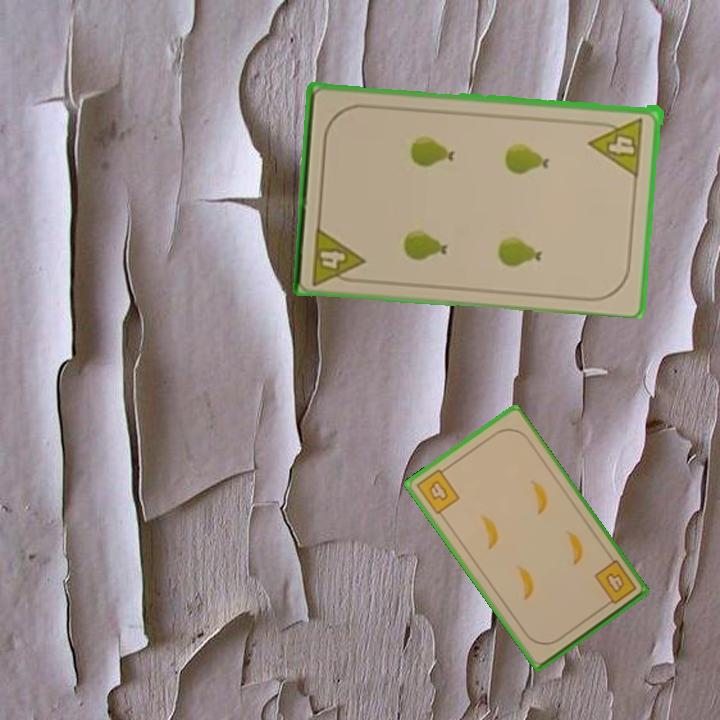4b: (412, 463, 462, 517), (590, 556, 639, 610)
4p: (308, 223, 368, 288), (587, 113, 646, 177)
